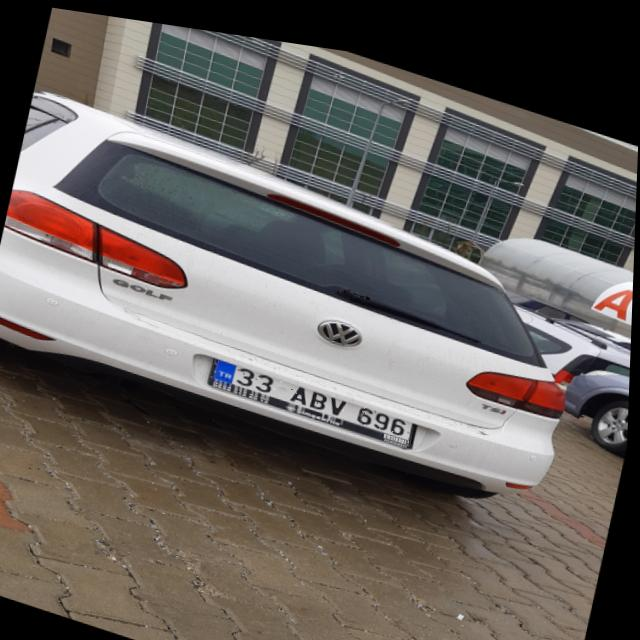license_plate: (210, 351, 416, 432)
